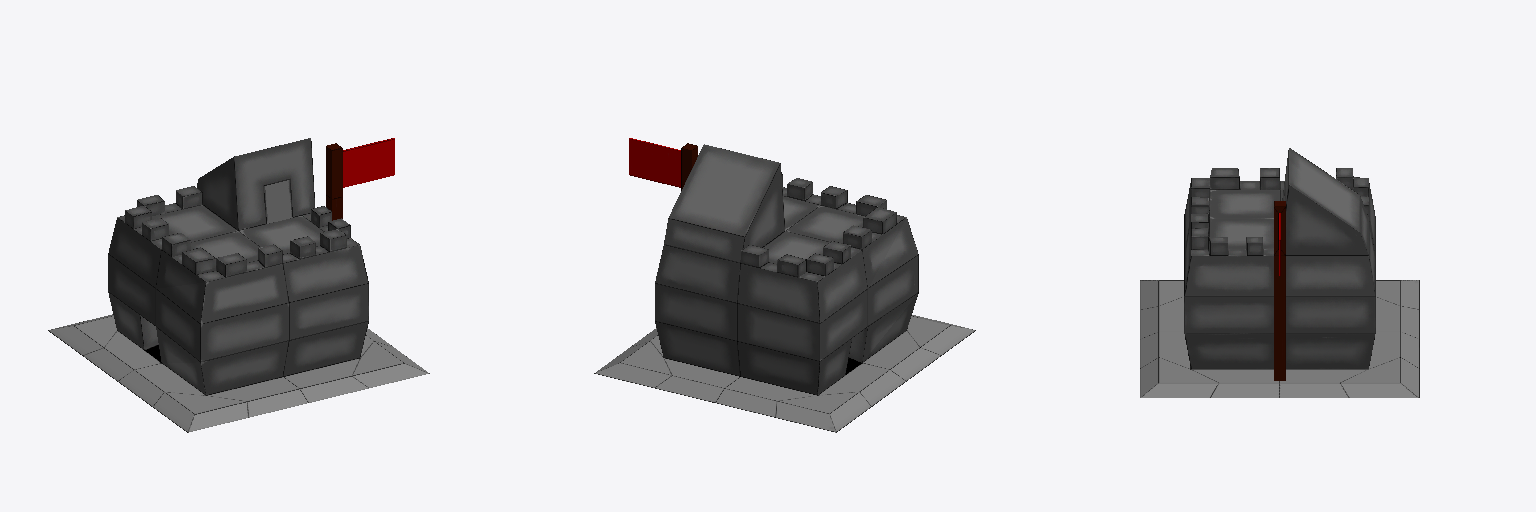
3 views of the same model, side by side, from view 1: azimuth 30°, elevation 25°; view 2: azimuth 150°, elevation 25°; view 3: azimuth 270°, elevation 25° (orthographic).
Visible parts, largest first — view 1: Cube_Cube.001; view 2: Cube_Cube.001; view 3: Cube_Cube.001.
Boxes of the visible parts, box(x1,y1,x2,y2) form: Cube_Cube.001: box(48, 138, 429, 432); Cube_Cube.001: box(594, 138, 975, 432); Cube_Cube.001: box(1140, 148, 1419, 397).
Bounding box in the file's own units: 3.48 × 2.41 × 3.05.
1 materials, 1 textured.